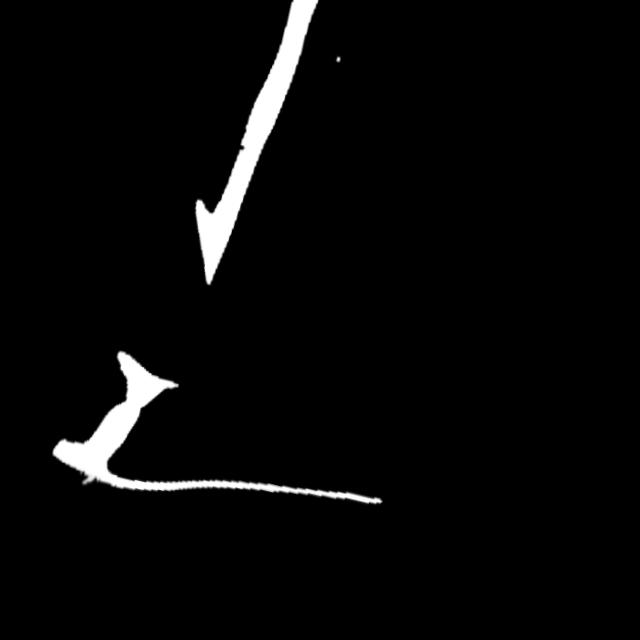sup_pli: (71, 459, 97, 493)
